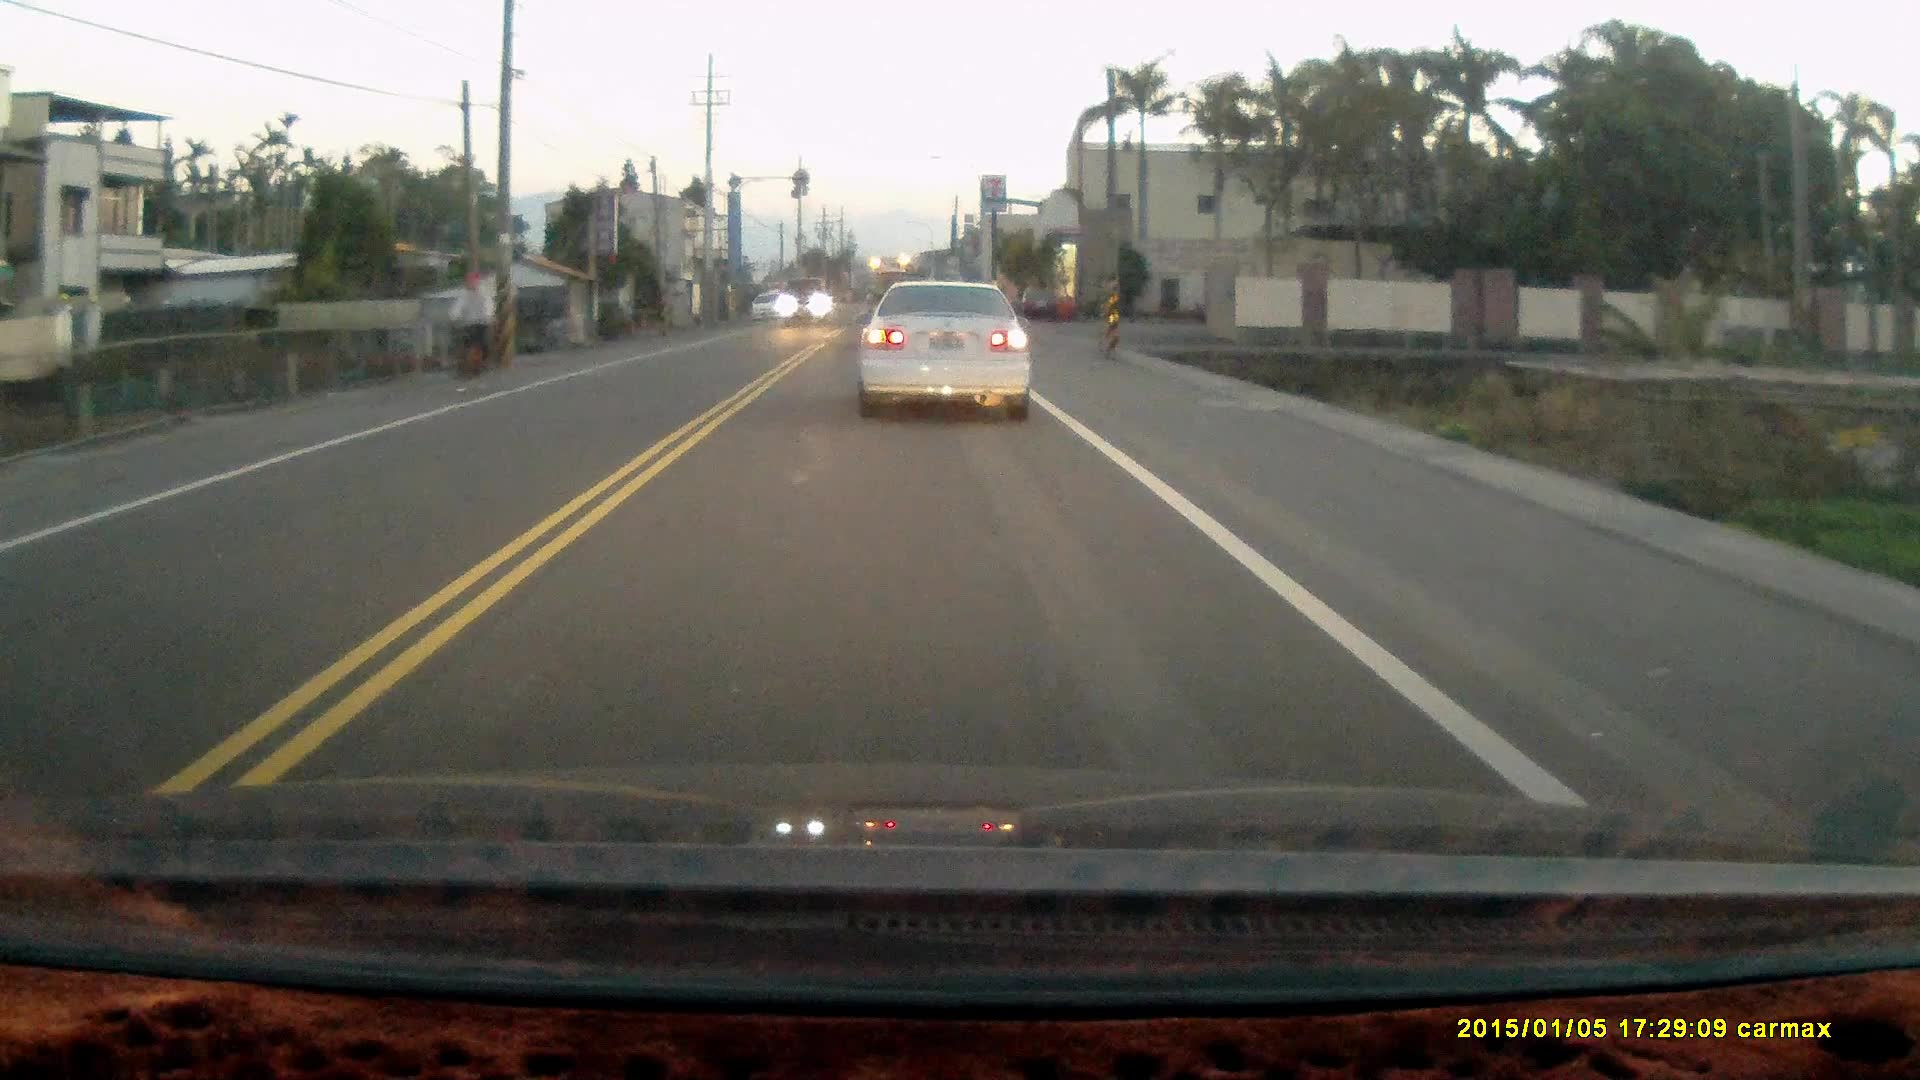rider: (445, 268, 498, 392)
vehicle: (857, 274, 1034, 418), (781, 276, 835, 326), (1015, 284, 1062, 322), (751, 292, 778, 321)
